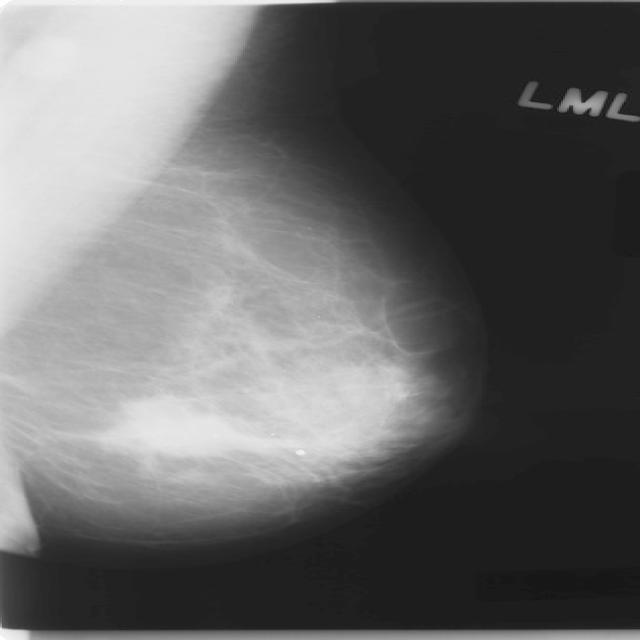tumour: (101, 396, 268, 456)
